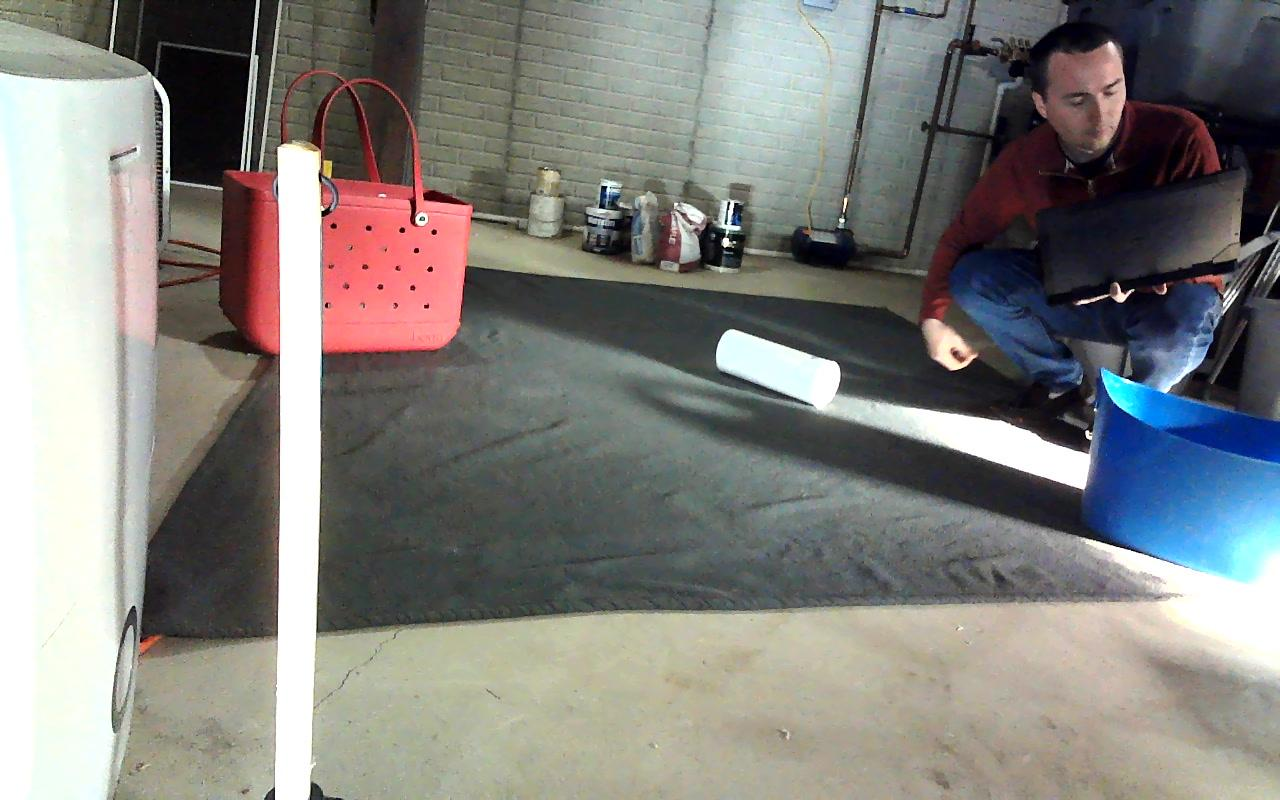coral: (715, 331, 840, 407)
